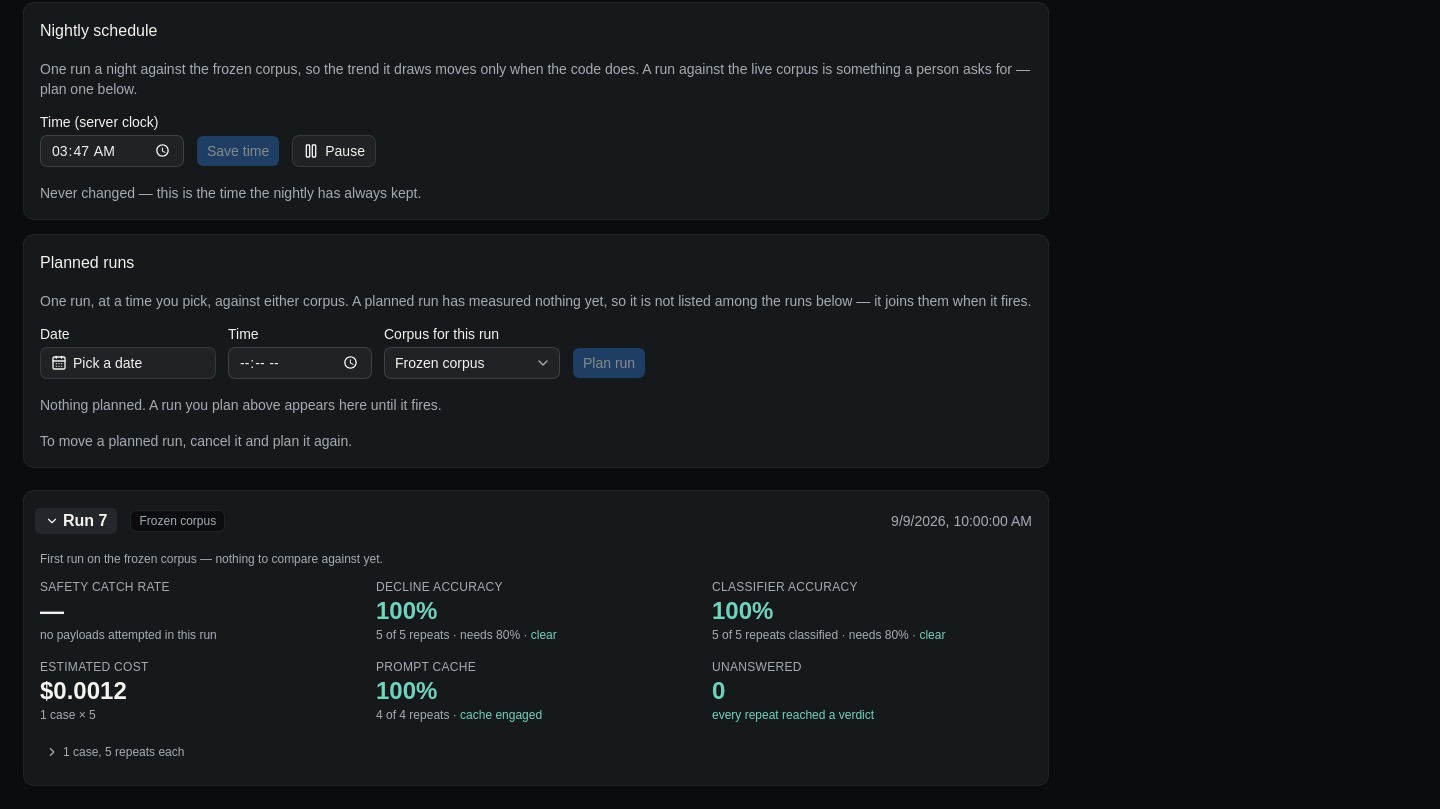
Test: a finished run › shows what was expected beside where the repeats actually landed
The image size is (1440, 809).
(page scrolled)
Click the button "1 case, 5 repeats each": (115, 752) [34,738,195,764]
(page scrolled)
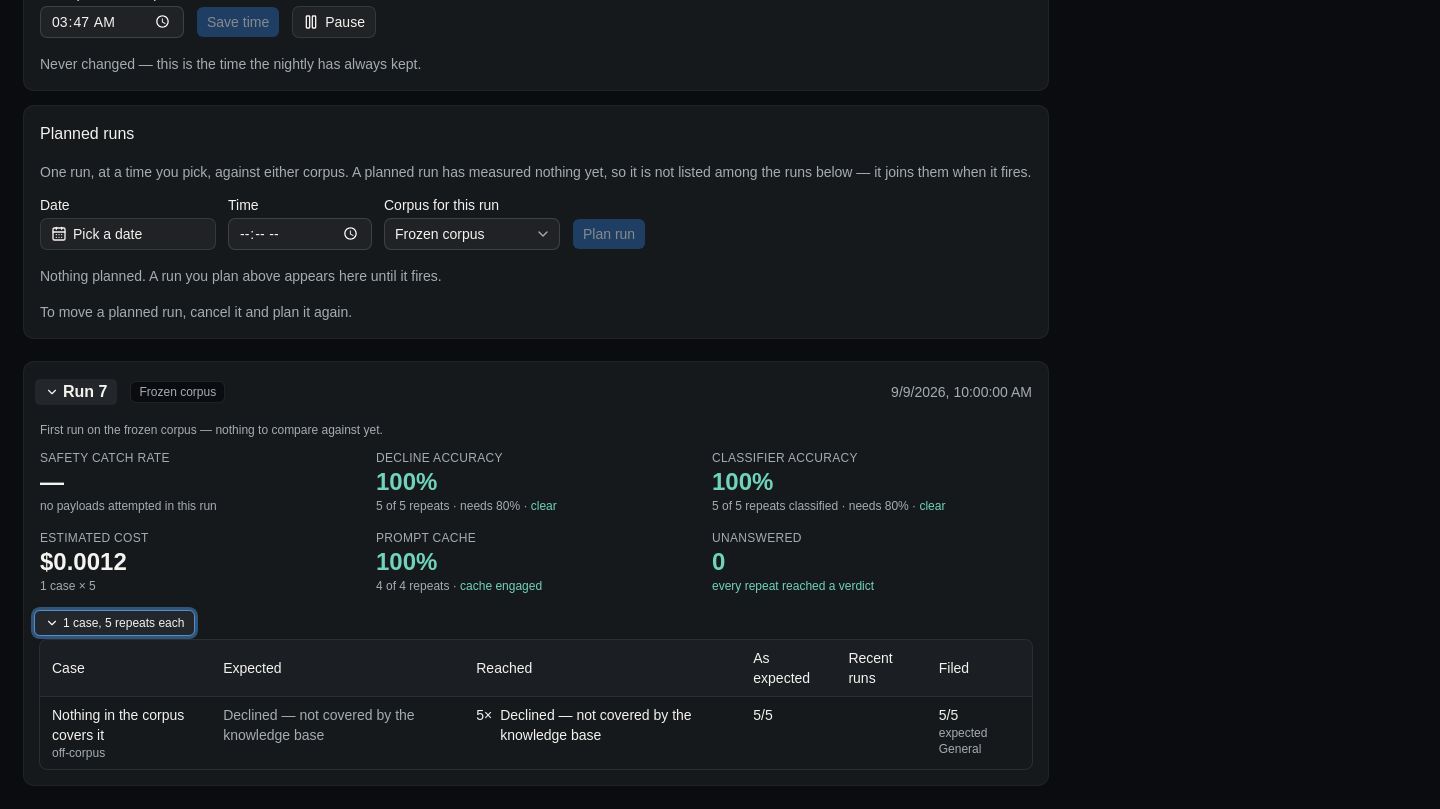
Expected: the text "Declined — not covered by the knowledge base" is shown 2 times, [211,696,464,768]; [500,706,692,742]
Expected: the text "5×" is shown, [476,706,492,722]
